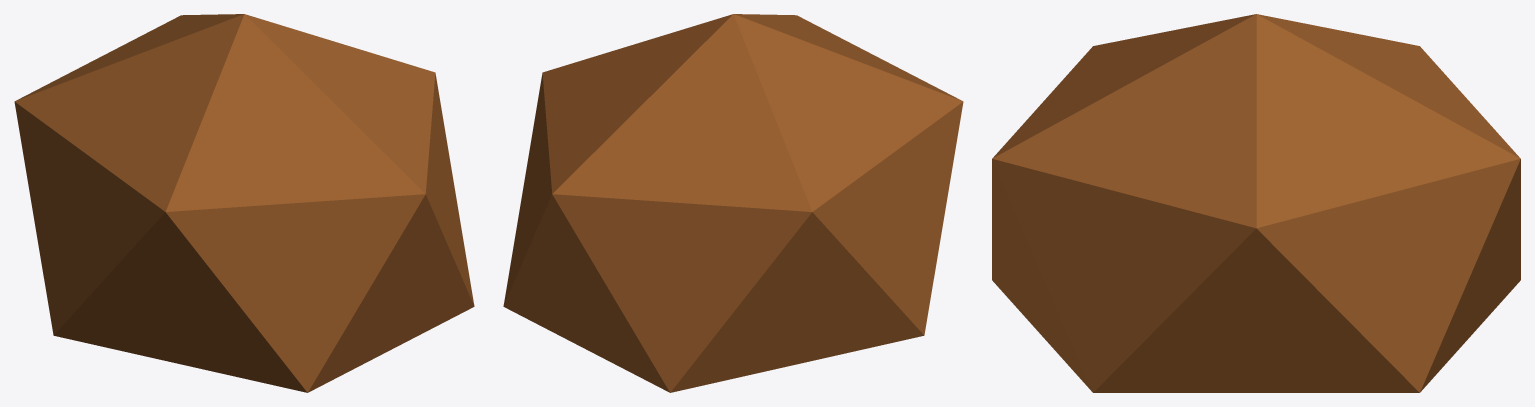
Rendered from BoxSmall.dae.
The picture shows the model from 3 angles, left to right: view 1: azimuth 30°, elevation 25°; view 2: azimuth 150°, elevation 25°; view 3: azimuth 270°, elevation 25°; orthographic projection. The views are drawn at different scales.
Visible parts, largest first — view 1: RockSmall; view 2: RockSmall; view 3: RockSmall.
Boxes of the visible parts, bbox=[...] form: RockSmall: bbox=[14, 14, 474, 392]; RockSmall: bbox=[503, 14, 963, 392]; RockSmall: bbox=[992, 14, 1520, 392].
Size of the model in its own units: 0.3068 by 0.3403 by 0.2305.
